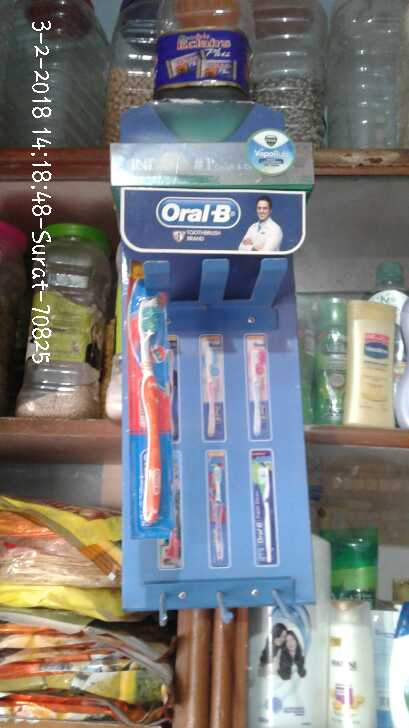pharmacy: (125, 295, 183, 539), (196, 328, 231, 436), (205, 455, 235, 570), (251, 453, 280, 562), (246, 334, 268, 440), (249, 130, 296, 173)
